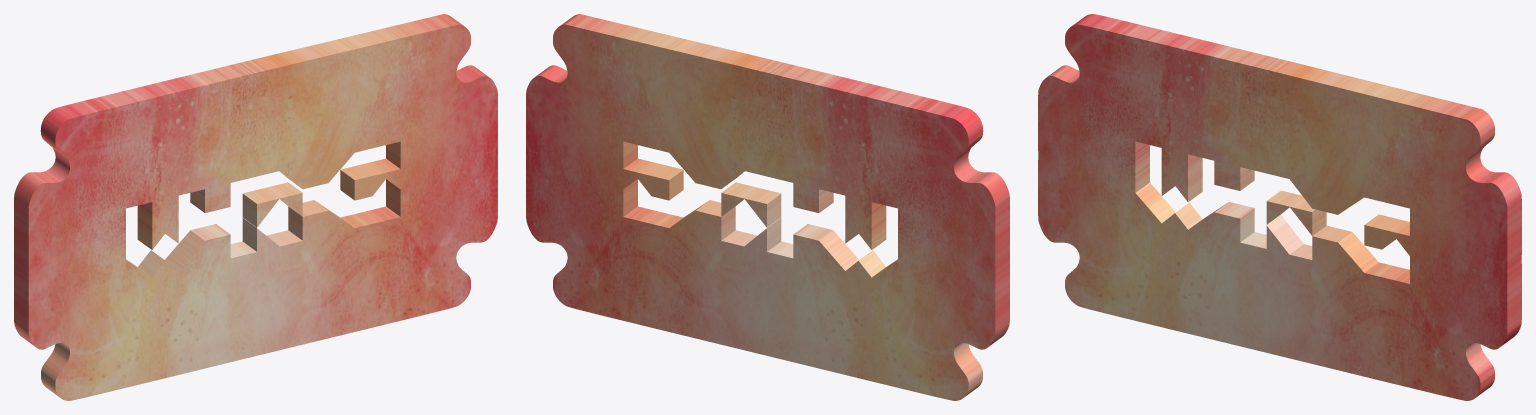
File: orange-watercolor.glb
3 views of the same model, side by side, from view 1: azimuth 30°, elevation 25°; view 2: azimuth 150°, elevation 25°; view 3: azimuth 330°, elevation 25° (orthographic).
Visible parts, largest first — view 1: Razor; view 2: Razor; view 3: Razor.
Boxes of the visible parts, x1,y1,x2,y2 form: Razor: [14, 14, 497, 400]; Razor: [526, 14, 1009, 400]; Razor: [1038, 14, 1521, 400].
Bounding box in the file's own units: 0.5609 × 0.3234 × 0.03.
Materials: 1 (1 with a texture image).
